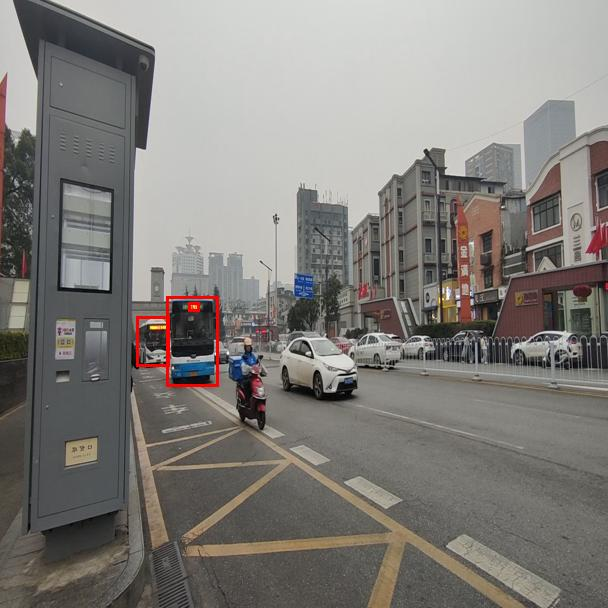bus: (166, 296, 218, 386), (136, 316, 169, 366)
screen: (188, 302, 199, 311)
